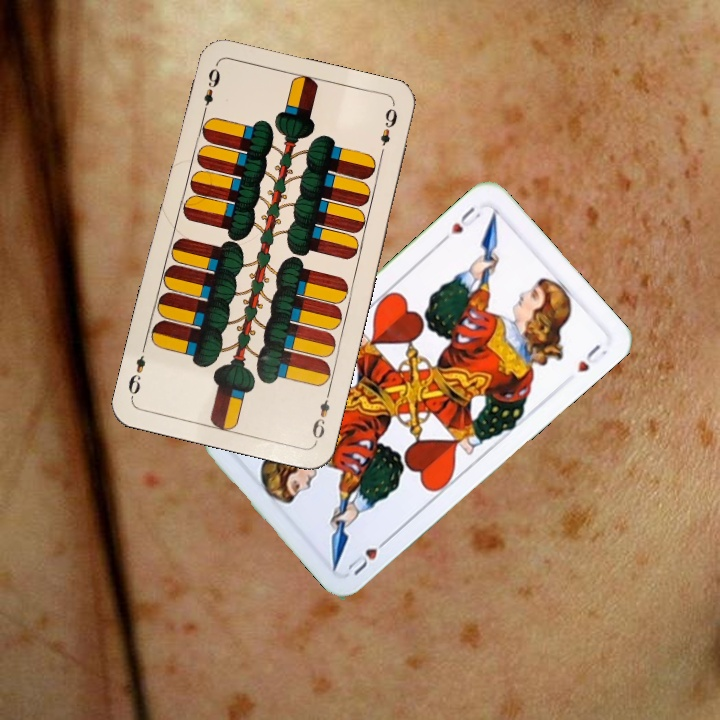E9: (308, 387, 333, 445), (198, 64, 223, 120)
HU: (343, 533, 393, 578), (437, 202, 484, 245)
